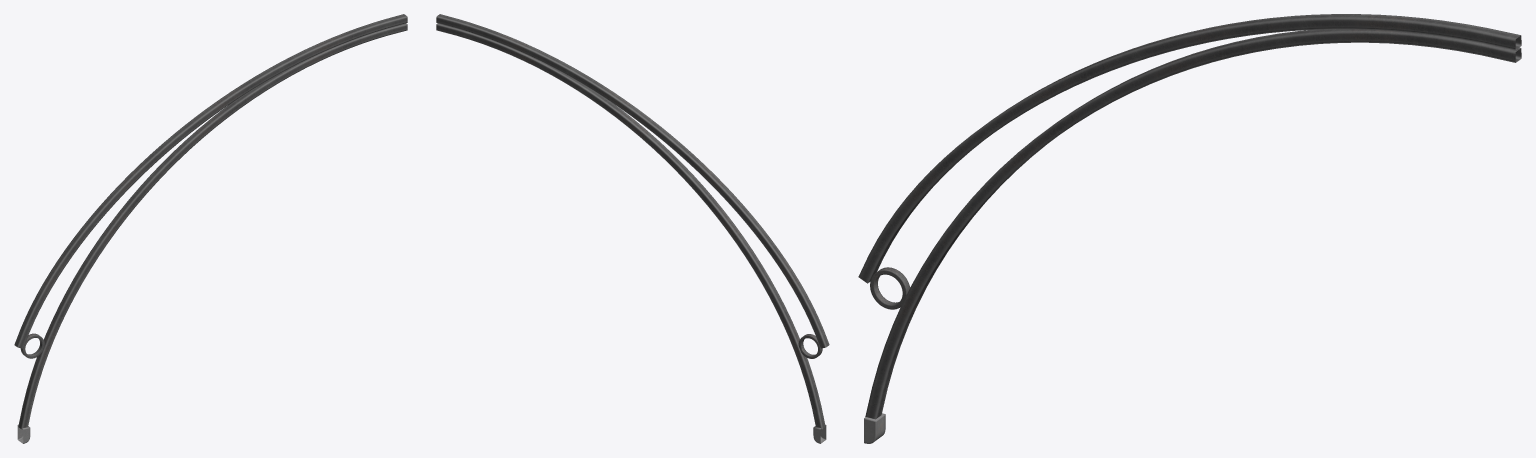
Rendered from SM_RoofSupport.FBX.
The picture shows the model from 3 angles, left to right: view 1: azimuth 30°, elevation 25°; view 2: azimuth 150°, elevation 25°; view 3: azimuth 330°, elevation 25°; orthographic projection. The views are drawn at different scales.
Parts seen in each view (by area): view 1: SM_RoofSupport; view 2: SM_RoofSupport; view 3: SM_RoofSupport.
Part boxes in pixels (x1,y1,x2,y2): SM_RoofSupport: (14,14,407,443); SM_RoofSupport: (436,14,829,443); SM_RoofSupport: (858,14,1521,443).
Bounding box in the file's own units: 1520 × 38.41 × 1239.
